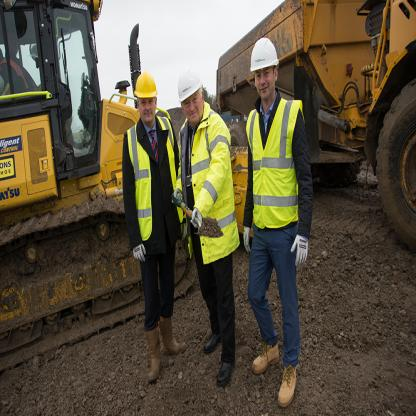person: (242, 27, 314, 412), (115, 48, 187, 388), (167, 50, 237, 387)
